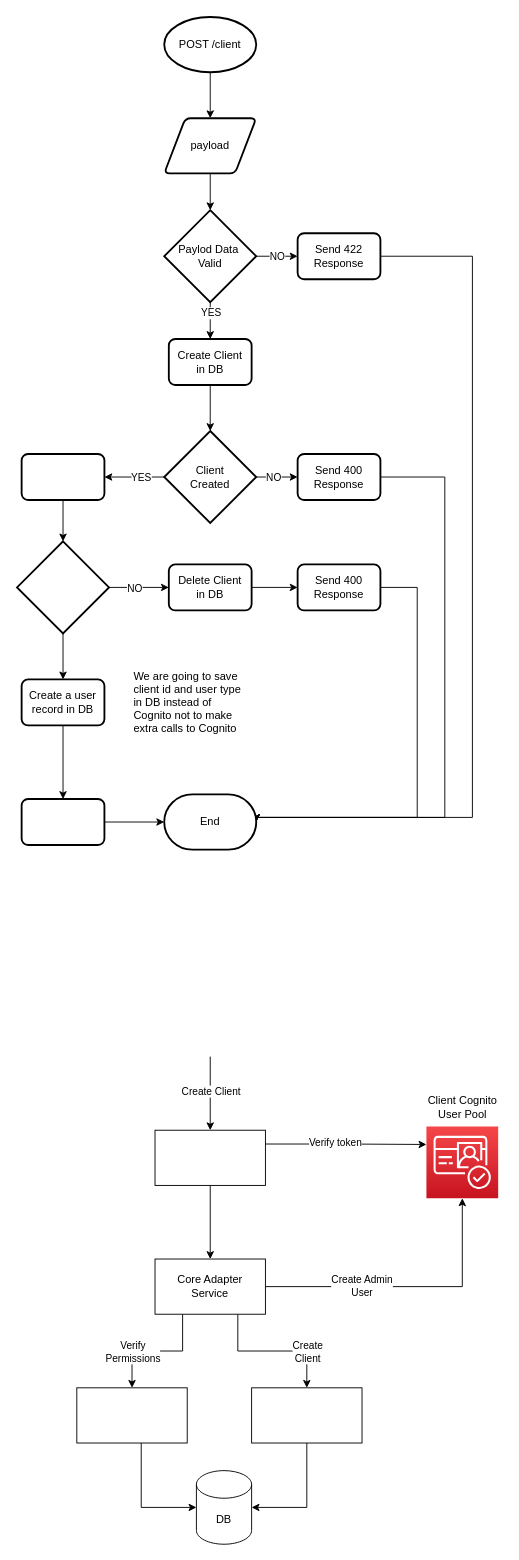
Image size: 519x1560. Some labels were removed from this diagram. Each missing label, with the centre of its shape:
"Admin User Created" goes at [62,587].
"Client Service" goes at [306,1415].
"Creat Admin User in Cognito" goes at [62,476].
"Permissions Service" goes at [131,1415].
"Send 201 Response" goes at [62,821].
"Web Gateway Service" goes at [209,1157].
